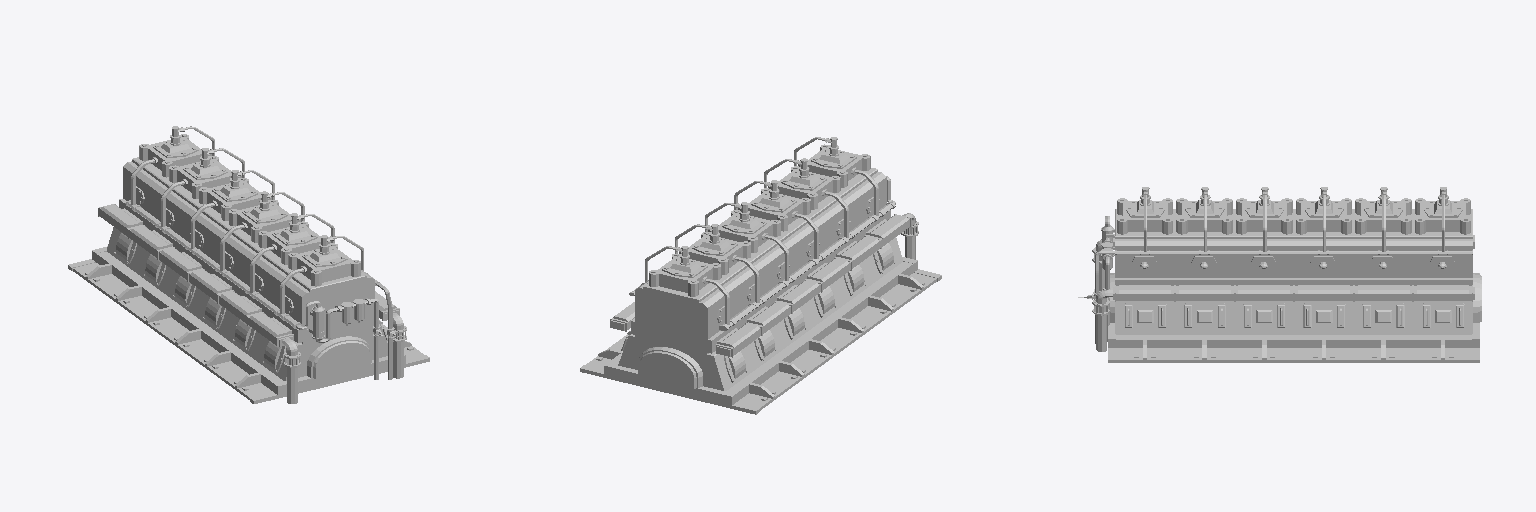
The model's file is ShipScene_5.obj.
3 renders of one model, left to right at view 1: azimuth 30°, elevation 25°; view 2: azimuth 150°, elevation 25°; view 3: azimuth 270°, elevation 25°, orthographic.
Bounding box in the file's own units: 94.87 × 70.24 × 188.